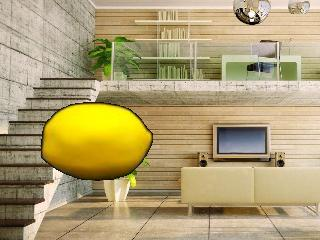lemon: (44, 106, 152, 182)
